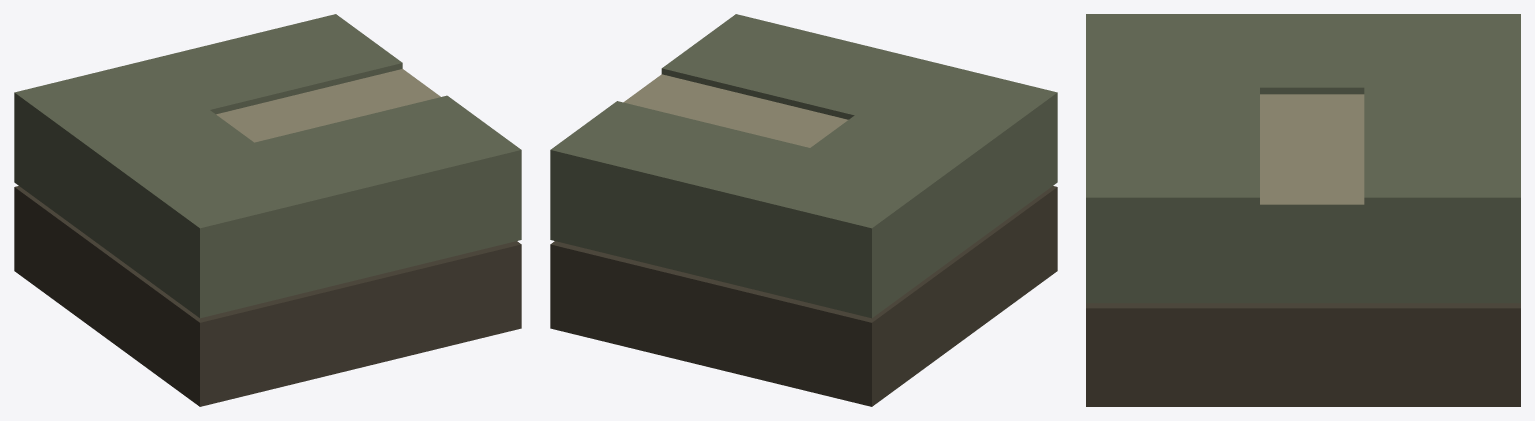
Rendered from Path 1 blocked.fbx.
3 renders of one model, left to right at view 1: azimuth 30°, elevation 25°; view 2: azimuth 150°, elevation 25°; view 3: azimuth 270°, elevation 25°, orthographic. The views are drawn at different scales.
Visible parts, largest first — view 1: polySurface1157; view 2: polySurface1157; view 3: polySurface1157.
Boxes of the visible parts, x1,y1,x2,y2 form: polySurface1157: (14, 14, 521, 406); polySurface1157: (550, 14, 1057, 406); polySurface1157: (1086, 14, 1520, 406).
Size of the model in its own units: 56.98 by 30.24 by 56.97.
